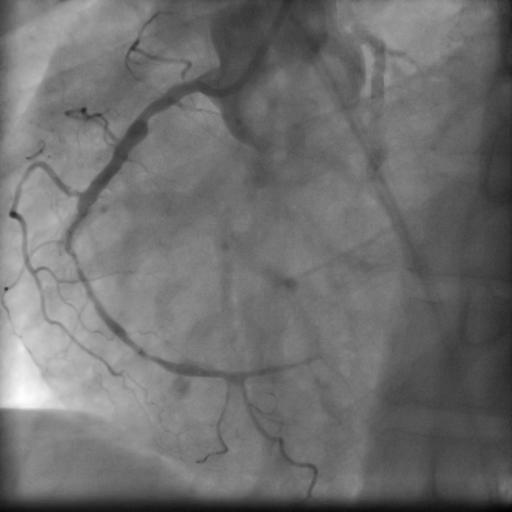Stenosis: (142, 99, 158, 125)
